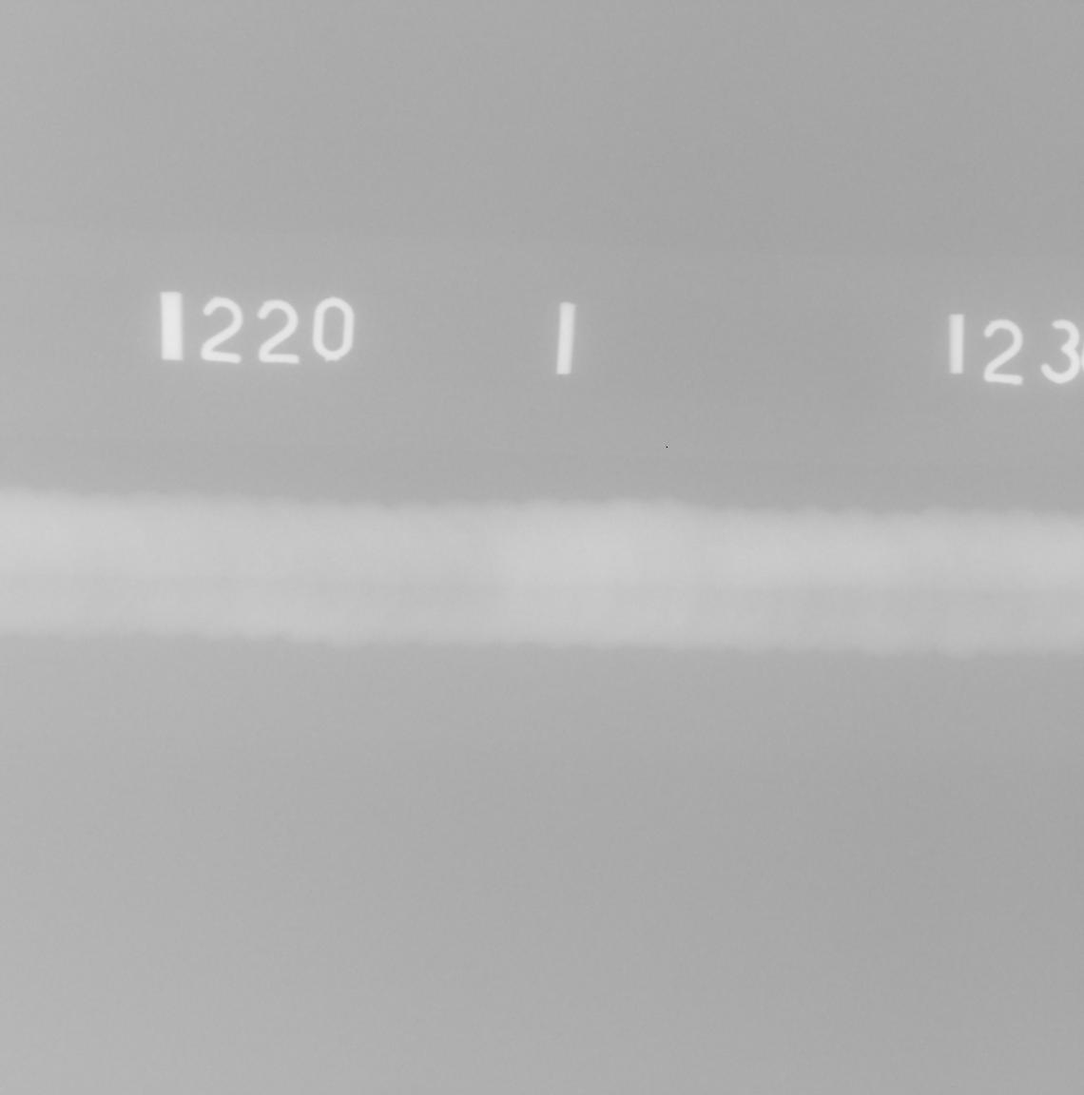Inclusion: (973, 558, 981, 568)
Pore/Porosity: (983, 593, 993, 599)
